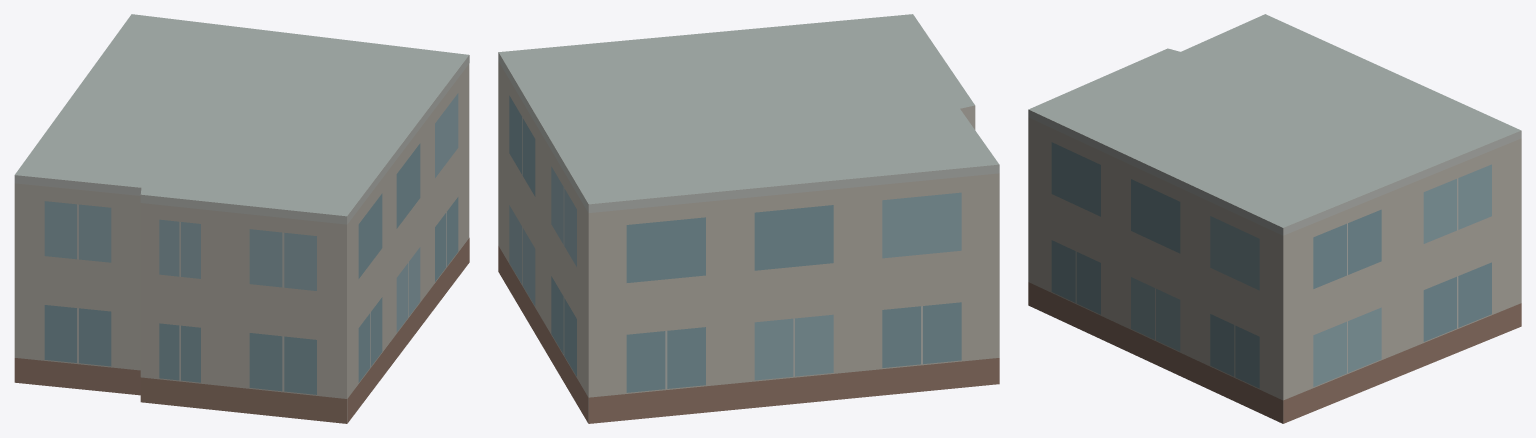
Rendered from survey-upis-32854583.glb.
The picture shows the model from 3 angles, left to right: view 1: azimuth 30°, elevation 25°; view 2: azimuth 150°, elevation 25°; view 3: azimuth 270°, elevation 25°; orthographic projection. The views are drawn at different scales.
Visible parts, largest first — view 1: survey-upis-32854583.tmp; view 2: survey-upis-32854583.tmp; view 3: survey-upis-32854583.tmp.
Part boxes in pixels (box(x1,y1,x2,y2)): survey-upis-32854583.tmp: box(14, 14, 469, 423); survey-upis-32854583.tmp: box(498, 14, 999, 423); survey-upis-32854583.tmp: box(1028, 14, 1521, 423).
Size of the model in its own units: 14.29 by 6.1 by 13.92.
